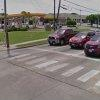Crosswalk: (13, 46, 97, 95)
